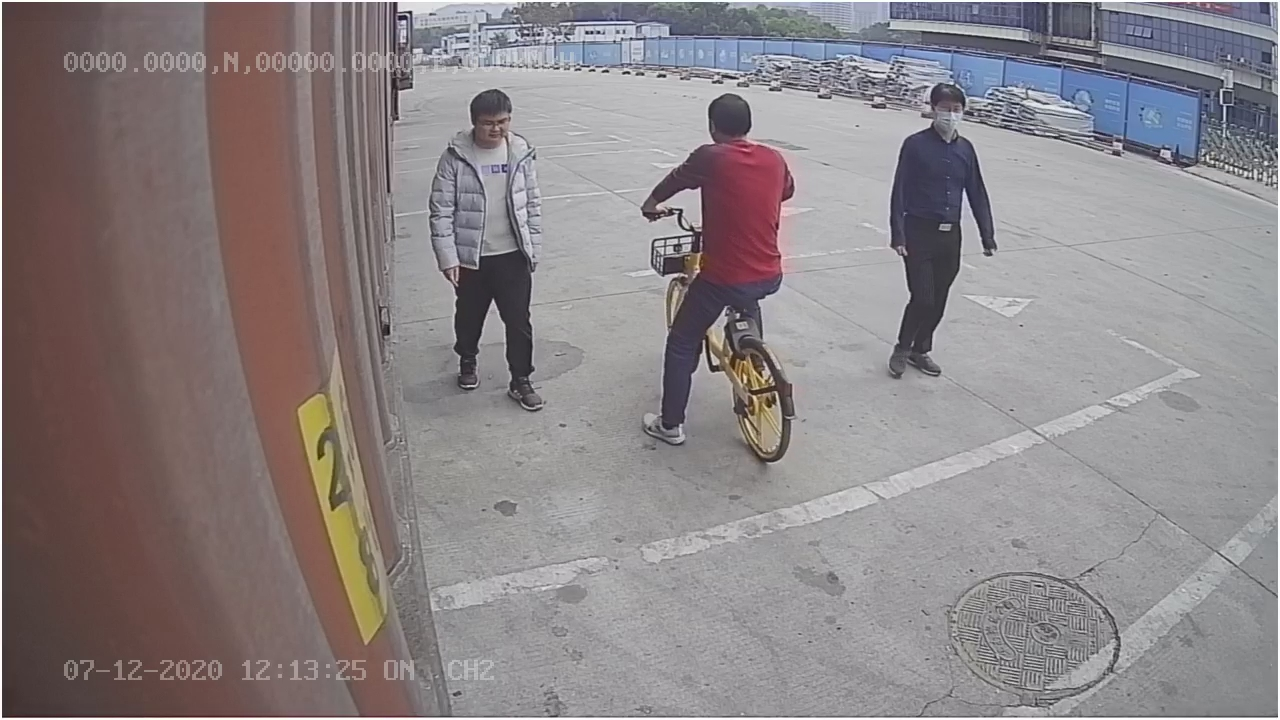person: (429, 84, 553, 411), (886, 84, 999, 382)
